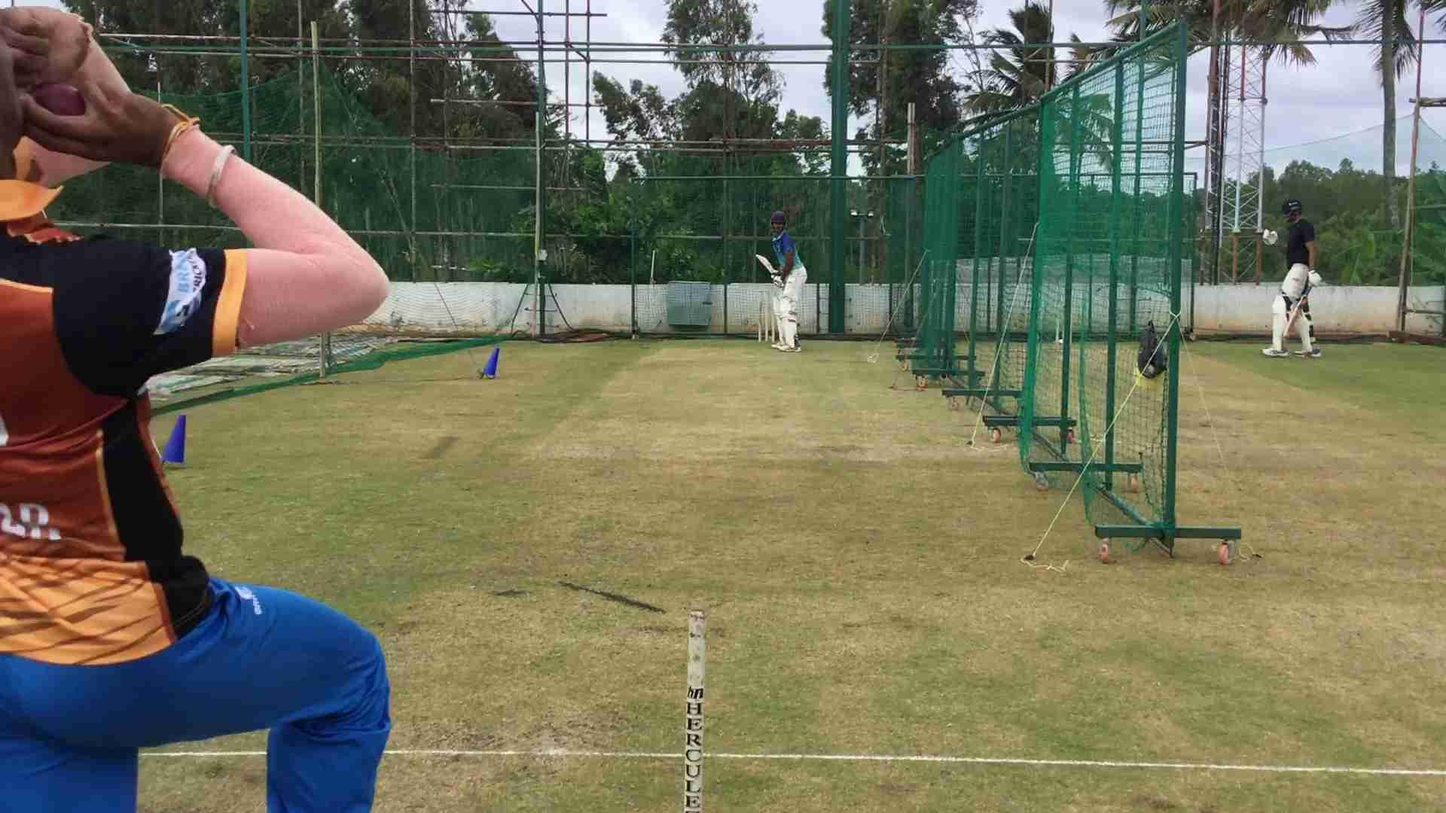batsman: (764, 209, 808, 355)
